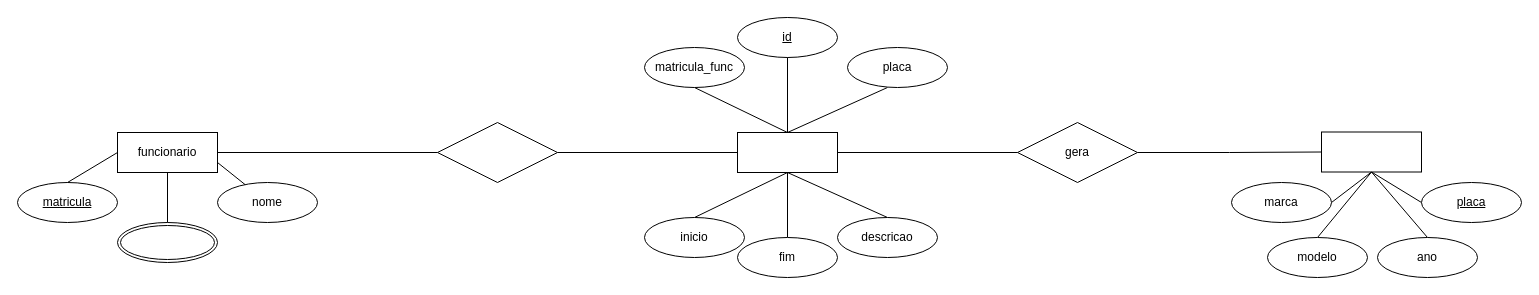
Some shapes in this 1539 by 295 pixel diagram are drawn without their labels. Here are the shapes that lost their labels. From the top down, the box of each, then its label:
(436, 122, 558, 182): faz
(736, 132, 838, 172): manutenção
(1320, 131, 1422, 172): carro
(116, 222, 218, 262): telefone
